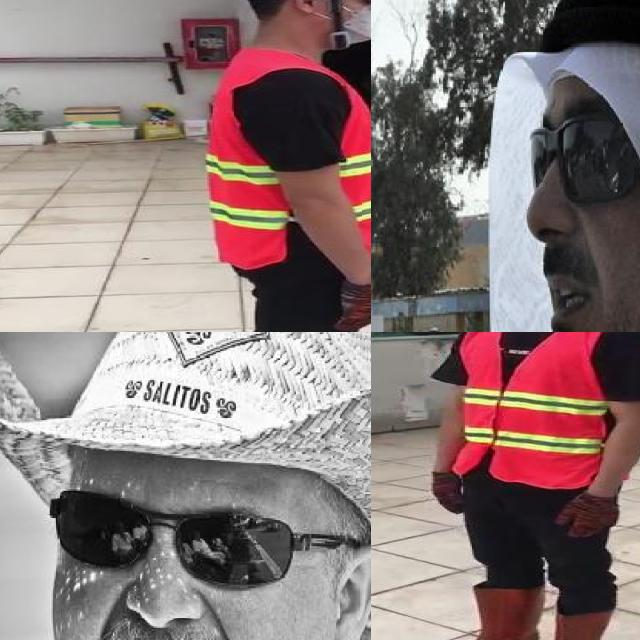No_Ear-Protection: (321, 542, 371, 640)
boots: (431, 585, 543, 640), (521, 611, 610, 640)
face_mask: (304, 0, 371, 46)
face_nomask: (52, 487, 306, 640), (510, 122, 640, 332)
glasses: (40, 507, 349, 612), (532, 87, 640, 222)
hand_glove: (552, 493, 621, 536), (331, 282, 371, 332), (429, 471, 465, 515)
head_nohelmet: (3, 332, 371, 499), (484, 0, 640, 127)
person: (416, 332, 640, 640), (188, 0, 371, 332)
vest: (207, 51, 371, 270), (454, 332, 617, 486)
